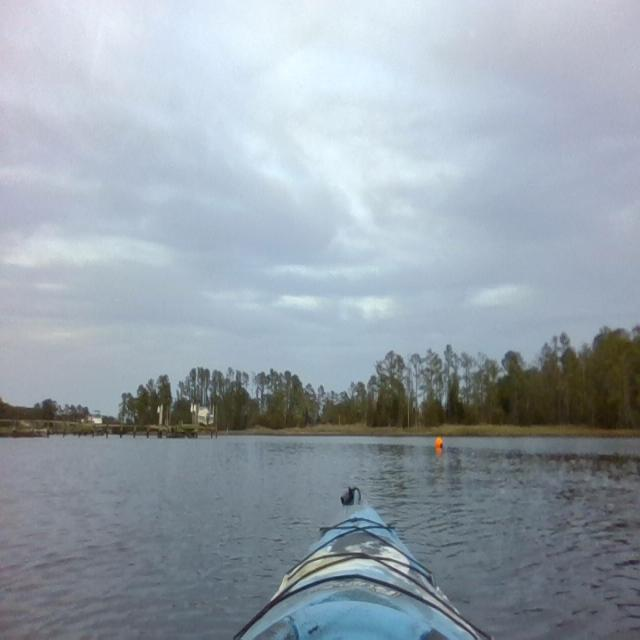Buoy: (433, 434, 444, 450)
